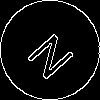N: (25, 25, 83, 82)
